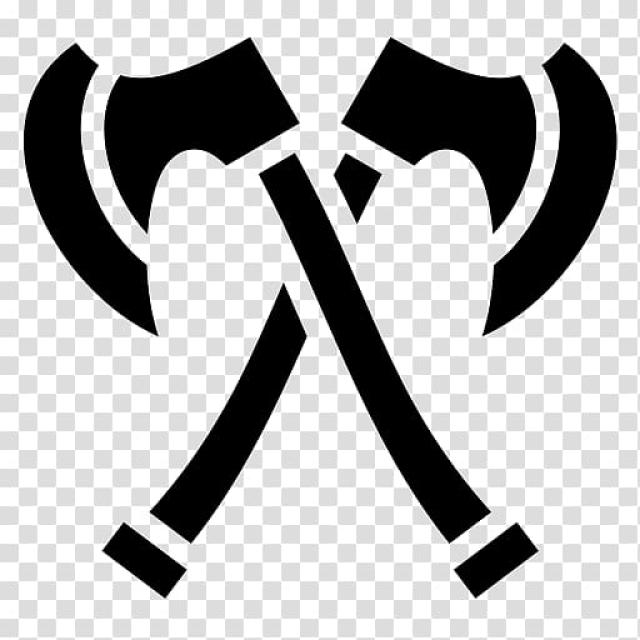Gun: (24, 31, 622, 601)
